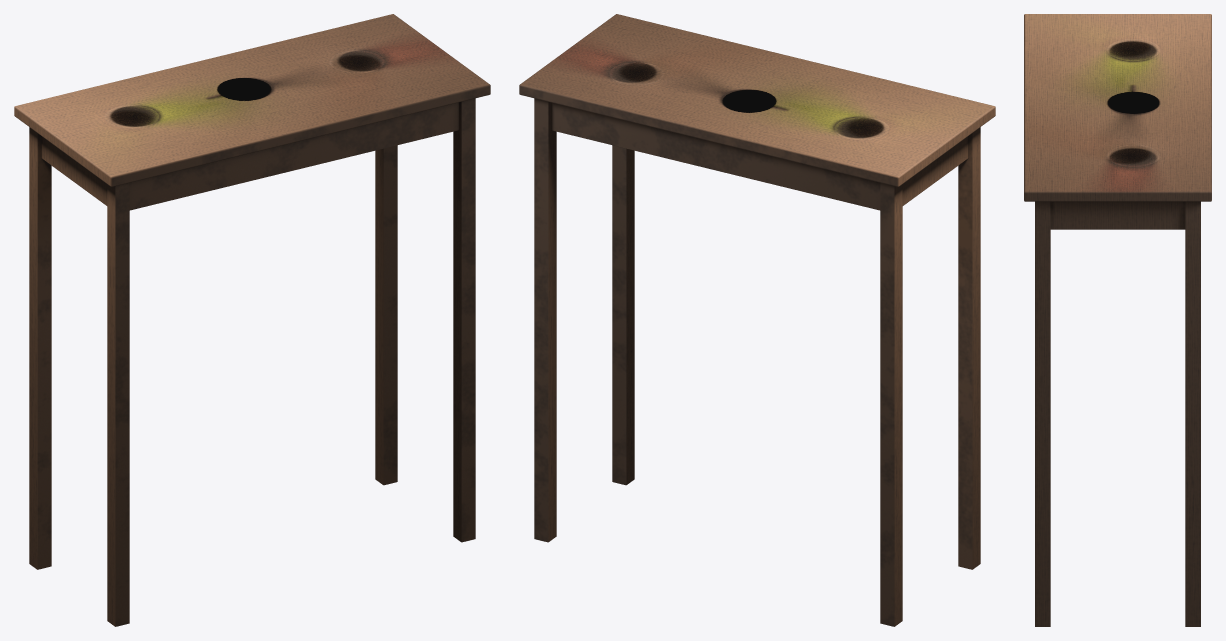
The model's file is 811_hal.glb.
3 views of the same model, side by side, from view 1: azimuth 30°, elevation 25°; view 2: azimuth 150°, elevation 25°; view 3: azimuth 270°, elevation 25° (orthographic). The views are drawn at different scales.
Parts seen in each view (by area): view 1: Table; view 2: Table; view 3: Table.
Part boxes in pixels (left/top/right/bottom): Table: left=14, top=14, right=490, bottom=626; Table: left=519, top=14, right=995, bottom=626; Table: left=1024, top=14, right=1211, bottom=626.
Size of what is drawn, in the model's own units: 2.7 by 3.1 by 1.2.
1 material, 1 textured.
